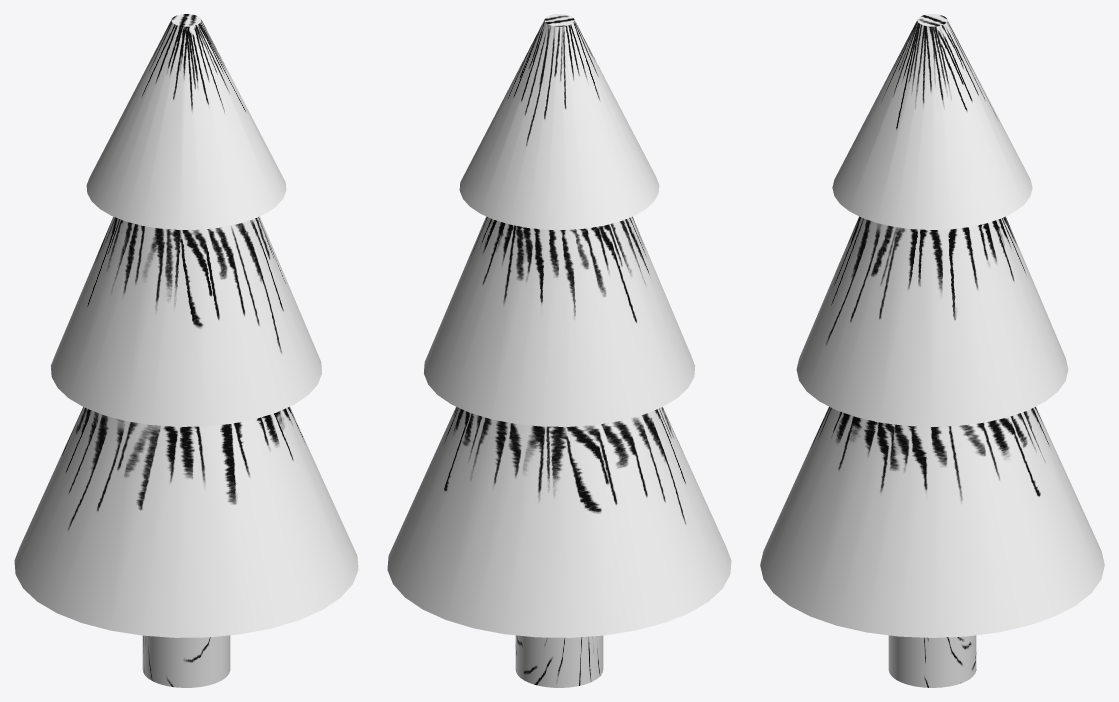
File: fir2.obj
3 renders of one model, left to right at view 1: azimuth 30°, elevation 25°; view 2: azimuth 150°, elevation 25°; view 3: azimuth 270°, elevation 25°, orthographic.
Parts seen in each view (by area): view 1: Cylinder.011; view 2: Cylinder.011; view 3: Cylinder.011.
Boxes of the visible parts, x1=… form: Cylinder.011: x1=14, y1=14, x2=358, y2=687; Cylinder.011: x1=387, y1=14, x2=731, y2=687; Cylinder.011: x1=760, y1=14, x2=1104, y2=687.
Bounding box in the file's own units: 1.37 × 2.85 × 1.37.
